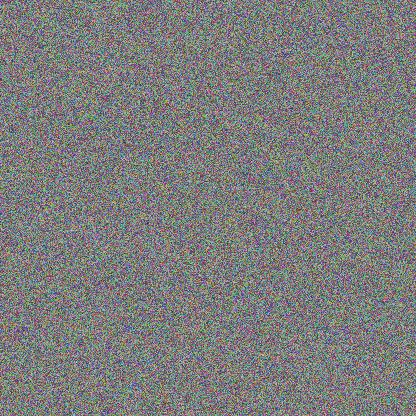occupied: (33, 198, 154, 319)
